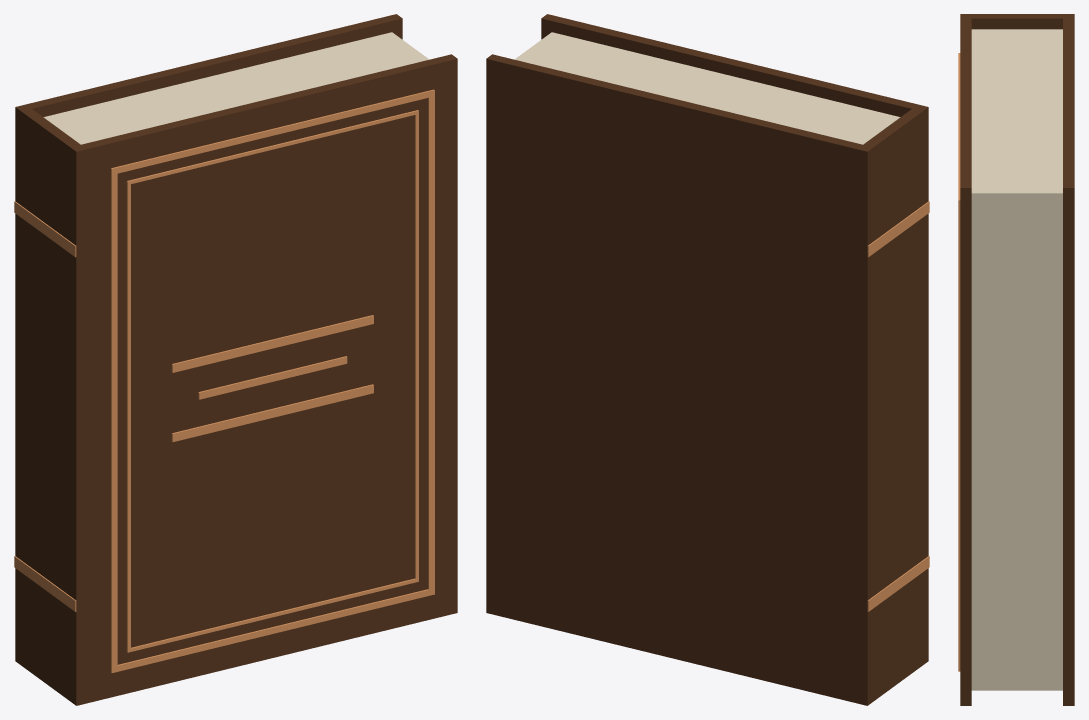
The model's file is athenaeum-book.gltf.
3 views of the same model, side by side, from view 1: azimuth 30°, elevation 25°; view 2: azimuth 150°, elevation 25°; view 3: azimuth 270°, elevation 25° (orthographic). The views are drawn at different scales.
Visible parts, largest first — view 1: Cloth, Copper, Pages; view 2: Cloth, Pages, Copper; view 3: Pages, Cloth, Copper.
Part boxes in pixels (<box>): Cloth: <box>15,14,457,705</box>; Copper: <box>14,89,434,672</box>; Pages: <box>43,32,428,144</box>; Cloth: <box>486,14,928,705</box>; Pages: <box>515,32,900,144</box>; Copper: <box>867,201,929,611</box>; Pages: <box>971,29,1062,690</box>; Cloth: <box>960,14,1074,705</box>; Copper: <box>958,53,960,671</box>.
Bounding box in the file's own units: 1.44 × 2 × 0.406.
